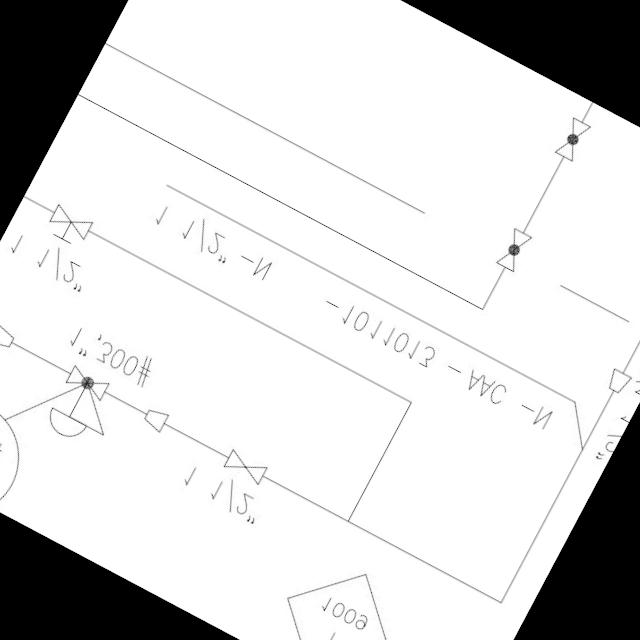BV2: (488, 220, 540, 280), (546, 112, 596, 168)
GV: (213, 441, 276, 492)
HV: (37, 200, 98, 256)
PCV: (33, 359, 134, 463)
SP: (597, 362, 637, 402), (134, 402, 176, 439), (0, 319, 25, 357)
